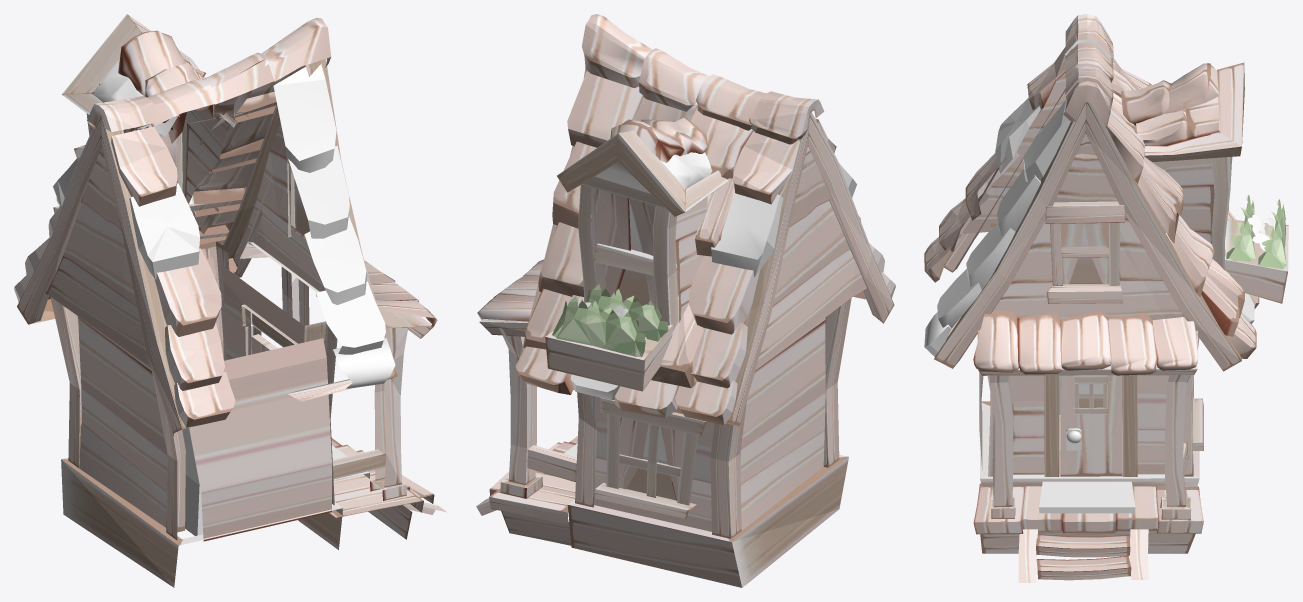
File: HouseVillage6.fbx
3 renders of one model, left to right at view 1: azimuth 30°, elevation 25°; view 2: azimuth 150°, elevation 25°; view 3: azimuth 270°, elevation 25°, orthographic. The views are drawn at different scales.
Parts seen in each view (by area): view 1: FarmerHouseRoof, Main, Building, FarmerHouseWindowDay, FarmerHouseStairs; view 2: FarmerHouseRoof, Main, Building, FarmerHouseWindowDay, FarmerHouseWindowNight; view 3: Main, FarmerHouseRoof, Building, FarmerHouseDoor005, FarmerHouseStairs, FarmerHouseWindowDay.
Boxes of the visible parts, x1,y1,x2,y2 form: FarmerHouseRoof: (14, 18, 437, 433); Main: (29, 59, 433, 587); Building: (53, 14, 305, 239); FarmerHouseWindowDay: (167, 137, 309, 234); FarmerHouseStairs: (356, 450, 447, 514); FarmerHouseRoof: (477, 14, 895, 426); Main: (479, 68, 851, 587); Building: (545, 130, 707, 391); FarmerHouseWindowDay: (591, 188, 680, 500); FarmerHouseWindowNight: (591, 189, 684, 489); Main: (934, 81, 1241, 553); FarmerHouseRoof: (924, 14, 1259, 375); Building: (1045, 62, 1288, 303); FarmerHouseDoor005: (1060, 375, 1122, 476); FarmerHouseStairs: (1018, 529, 1148, 582); FarmerHouseWindowDay: (1060, 223, 1109, 284).
Bounding box in the file's own units: 3.39 × 5.13 × 3.64.
2 materials, 2 textured.
